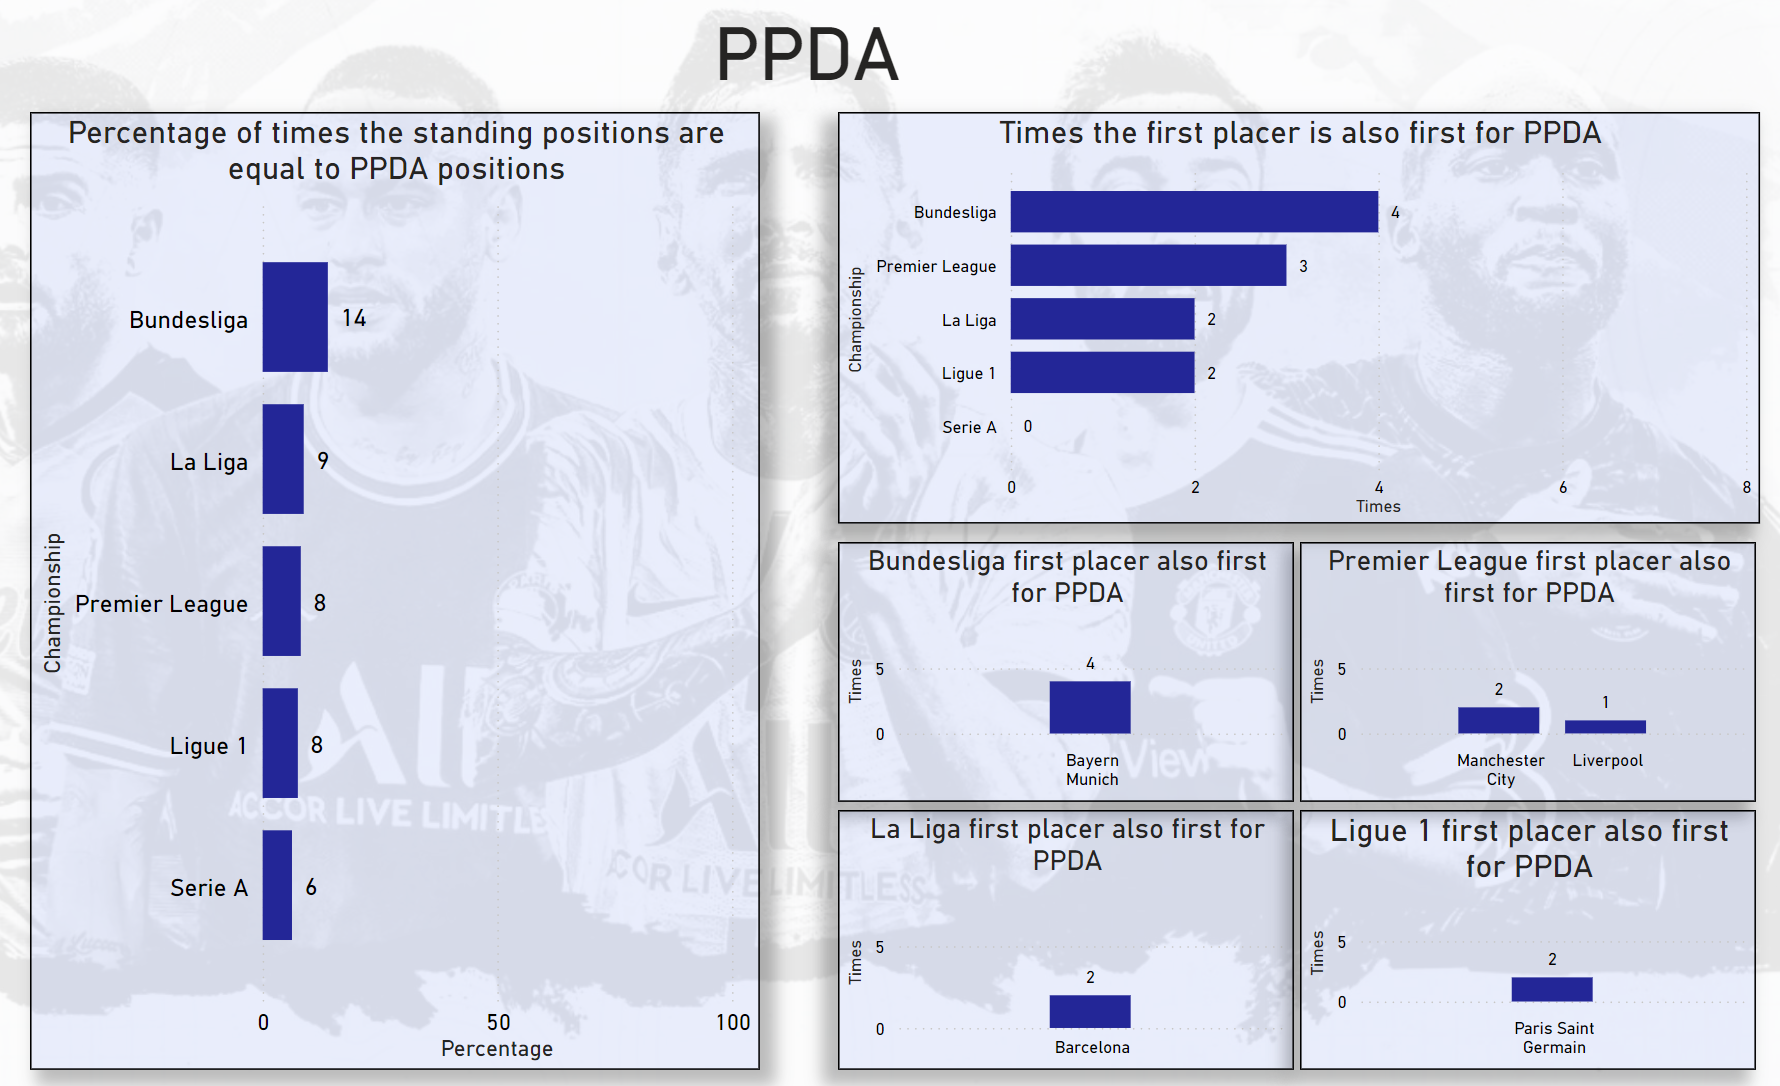

Layout of this report page (visuals, bound fields, positions):
{"tool":"powerbi","page":{"name":"PPDA","canvas":[1280,720],"ordinal":9},"visuals":[{"type":"clusteredBarChart","title":"Times the first placer is also first for PPDA","fields":{"Category":["Sheet1.Championship"],"Y":["Sum(Sheet1.Stand_eq_PPDA)"]},"box":[667,83.5,592.4,264.7],"z":0},{"type":"textbox","box":[582.2,12.9,154.2,68.1],"z":1000},{"type":"clusteredBarChart","title":"Percentage of times the standing positions are equal to PPDA positions","fields":{"Category":["Sheet1.Championship"],"Y":["Sheet1.sumStand_PPDA"]},"box":[147.8,83.5,469.1,615.6],"z":2000},{"type":"clusteredColumnChart","title":"Premier League first placer also first for PPDA","fields":{"Y":["Sum(Sheet1.Stand_eq_PPDA)"],"Category":["Sheet1.Teams"]},"box":[963.9,359.8,293,167],"z":3000},{"type":"clusteredColumnChart","title":"Bundesliga first placer also first for PPDA","fields":{"Y":["Sum(Sheet1.Stand_eq_PPDA)"],"Category":["Sheet1.Teams"]},"box":[667,359.8,293,167.1],"z":4000},{"type":"clusteredColumnChart","title":"La Liga first placer also first for PPDA","fields":{"Y":["Sum(Sheet1.Stand_eq_PPDA)"],"Category":["Sheet1.Teams"]},"box":[667,532,293,167.1],"z":5000},{"type":"clusteredColumnChart","title":"Ligue 1 first placer also first for PPDA","fields":{"Y":["Sum(Sheet1.Stand_eq_PPDA)"],"Category":["Sheet1.Teams"]},"box":[963.9,532,293,167.1],"z":6000},{"type":"actionButton","box":[21.8,156.8,91.2,47.6],"z":7000},{"type":"actionButton","box":[21.8,210.8,91.2,47.6],"z":8000},{"type":"actionButton","box":[21.8,263.5,91.2,47.6],"z":9000},{"type":"actionButton","box":[21.8,316.1,91.2,47.6],"z":10000},{"type":"actionButton","box":[21.8,368.8,91.2,47.6],"z":11000},{"type":"textbox","box":[1.3,106.7,134.9,56.5],"z":12000},{"type":"shape","box":[0,96.4,127.2,14.1],"z":13000},{"type":"shape","box":[111.8,97.7,16.7,331.6],"z":14000},{"type":"shape","box":[0,415.1,127.2,16.7],"z":15000},{"type":"actionButton","box":[21.8,487.1,91.2,47.6],"z":16000},{"type":"actionButton","box":[21.8,550,91.2,47.6],"z":17000},{"type":"actionButton","box":[21.8,613,91.2,47.6],"z":18000},{"type":"textbox","box":[0,443.4,134.9,56.5],"z":19000},{"type":"shape","box":[0,435.7,127.2,14.1],"z":20000},{"type":"shape","box":[113.1,436.9,16.7,241.6],"z":21000},{"type":"shape","box":[0,665.7,127.2,12.9],"z":22000},{"type":"actionButton","box":[0,0,168.4,45],"z":23000}]}

Visuals, with their boxes on the page's 1280x720 design canvas (x1, y1, x2, y2). These are canvas units, not pixel positions in the 1780x1086 screenshot, which may show the page scaled, cropped or inside an application window:
"Times the first placer is also first for PPDA" clusteredBarChart: detection(667, 84, 1259, 348)
textbox: detection(582, 13, 736, 81)
"Percentage of times the standing positions are equal to PPDA positions" clusteredBarChart: detection(148, 84, 617, 699)
"Premier League first placer also first for PPDA" clusteredColumnChart: detection(964, 360, 1257, 527)
"Bundesliga first placer also first for PPDA" clusteredColumnChart: detection(667, 360, 960, 527)
"La Liga first placer also first for PPDA" clusteredColumnChart: detection(667, 532, 960, 699)
"Ligue 1 first placer also first for PPDA" clusteredColumnChart: detection(964, 532, 1257, 699)
actionButton: detection(22, 157, 113, 204)
actionButton: detection(22, 211, 113, 258)
actionButton: detection(22, 264, 113, 311)
actionButton: detection(22, 316, 113, 364)
actionButton: detection(22, 369, 113, 416)
textbox: detection(1, 107, 136, 163)
shape: detection(0, 96, 127, 110)
shape: detection(112, 98, 128, 429)
shape: detection(0, 415, 127, 432)
actionButton: detection(22, 487, 113, 535)
actionButton: detection(22, 550, 113, 598)
actionButton: detection(22, 613, 113, 661)
textbox: detection(0, 443, 135, 500)
shape: detection(0, 436, 127, 450)
shape: detection(113, 437, 130, 678)
shape: detection(0, 666, 127, 679)
actionButton: detection(0, 0, 168, 45)
